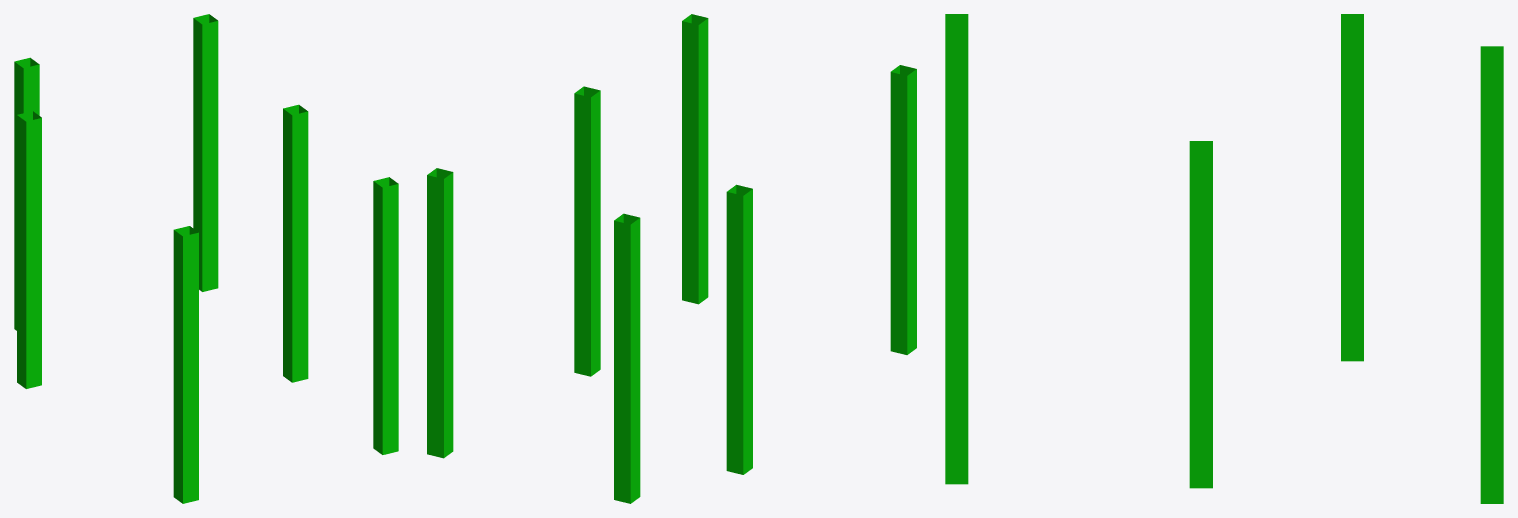
File: columnas.fbx
3 renders of one model, left to right at view 1: azimuth 30°, elevation 25°; view 2: azimuth 150°, elevation 25°; view 3: azimuth 270°, elevation 25°, orthographic. The views are drawn at different scales.
Visible parts, largest first — view 1: columnas; view 2: columnas; view 3: columnas.
Part boxes in pixels (x1=…): columnas: x1=14, y1=14, x2=398, y2=503; columnas: x1=427, y1=14, x2=916, y2=503; columnas: x1=945, y1=14, x2=1503, y2=503.
Size of the model in its own units: 775 by 800 by 1200.
